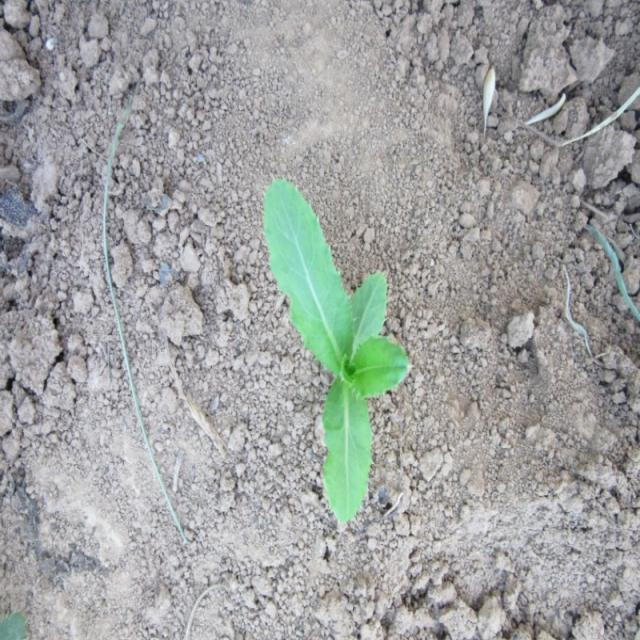cs: (263, 173, 413, 532)
